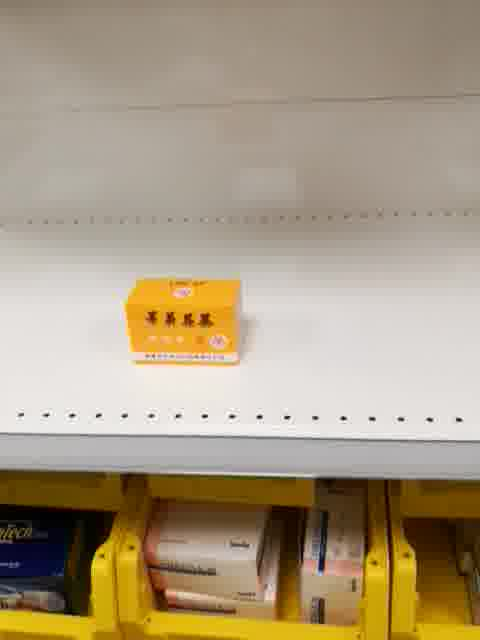jasminetea: (121, 273, 245, 370)
